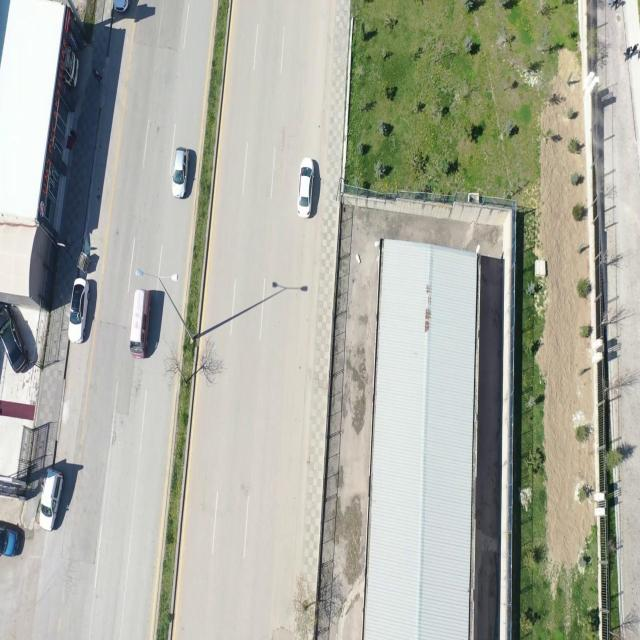p3rson: (623, 46, 632, 62), (631, 43, 638, 61)
